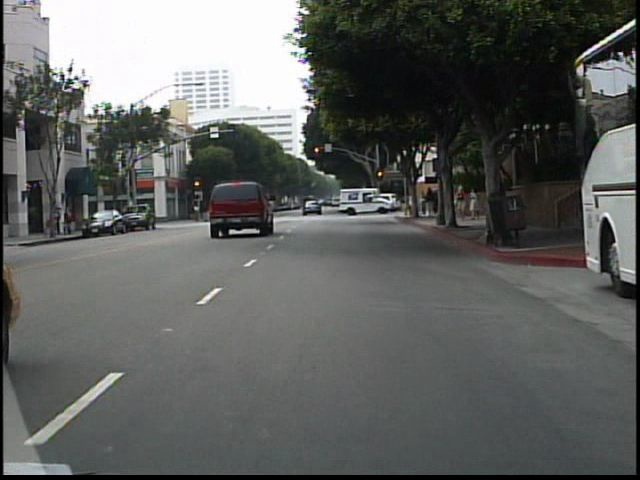person: (468, 181, 482, 223), (455, 183, 468, 221)
